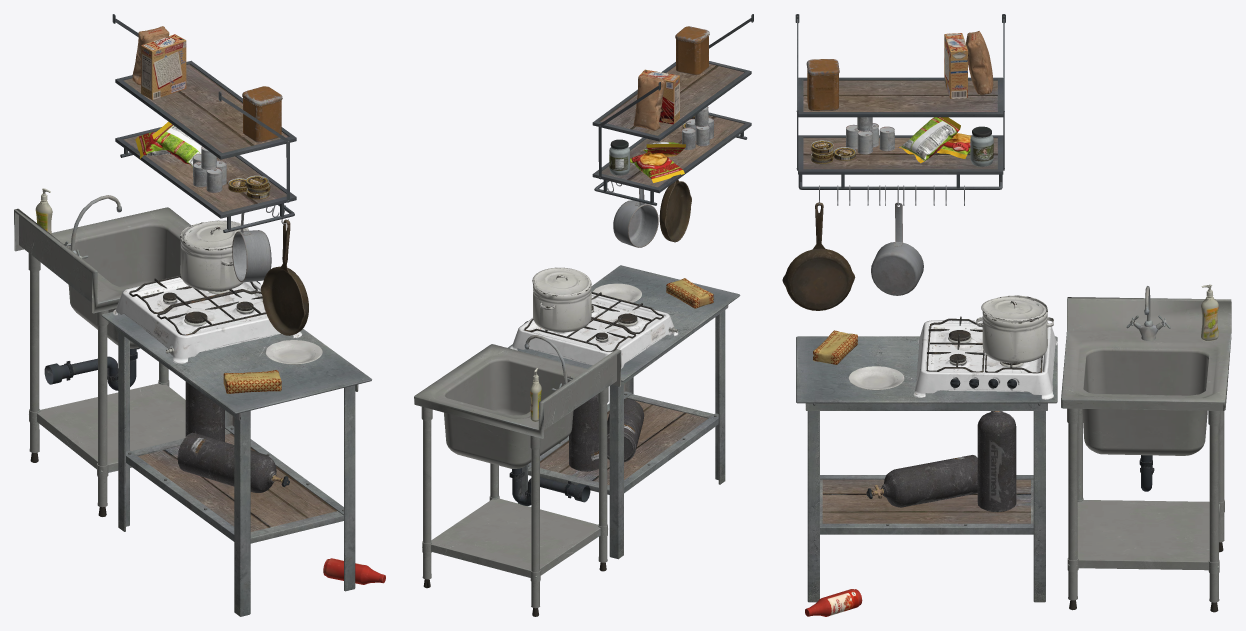
The model's file is kitchenSet.glb.
3 views of the same model, side by side, from view 1: azimuth 30°, elevation 25°; view 2: azimuth 150°, elevation 25°; view 3: azimuth 270°, elevation 25° (orthographic). The views are drawn at different scales.
Visible parts, largest first — view 1: Object_4, Object_90, Object_30, Object_20, Object_78, Object_70, Object_42; view 2: Object_90, Object_4, Object_30, Object_20, Object_78, Object_70; view 3: Object_90, Object_4, Object_20, Object_30, Object_70, Object_78, Object_42.
Boxes of the visible parts, x1=… form: Object_4: x1=101, y1=14, x2=371, y2=616; Object_90: x1=14, y1=195, x2=190, y2=516; Object_30: x1=132, y1=26, x2=385, y2=584; Object_20: x1=180, y1=213, x2=322, y2=364; Object_78: x1=113, y1=275, x2=302, y2=363; Object_70: x1=177, y1=382, x2=289, y2=492; Object_42: x1=35, y1=188, x2=52, y2=234; Object_90: x1=414, y1=335, x2=621, y2=616; Object_4: x1=507, y1=14, x2=753, y2=559; Object_30: x1=609, y1=26, x2=713, y2=308; Object_20: x1=532, y1=180, x2=691, y2=332; Object_78: x1=510, y1=292, x2=678, y2=368; Object_70: x1=569, y1=394, x2=644, y2=471; Object_90: x1=1061, y1=286, x2=1231, y2=612; Object_4: x1=795, y1=14, x2=1057, y2=602; Object_20: x1=782, y1=202, x2=1053, y2=390; Object_30: x1=805, y1=31, x2=993, y2=616; Object_70: x1=866, y1=411, x2=1016, y2=512; Object_78: x1=913, y1=316, x2=1057, y2=399; Object_42: x1=1201, y1=284, x2=1218, y2=341.
Bounding box in the file's own units: 0.753 × 2.25 × 1.74.
Materials: 7 (7 with a texture image).
